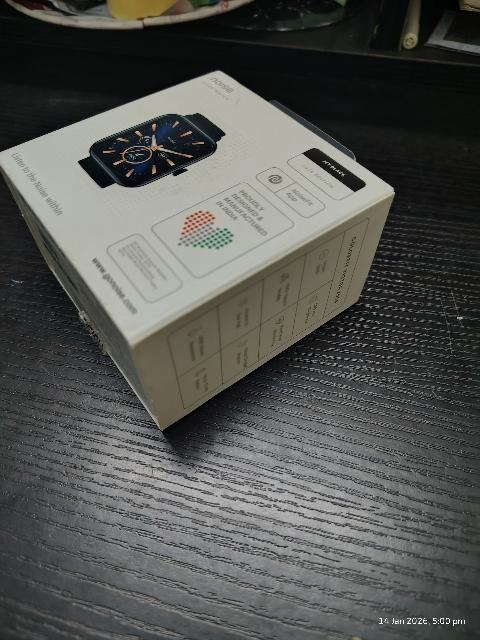noise victor smartwatch: (9, 66, 383, 432)
